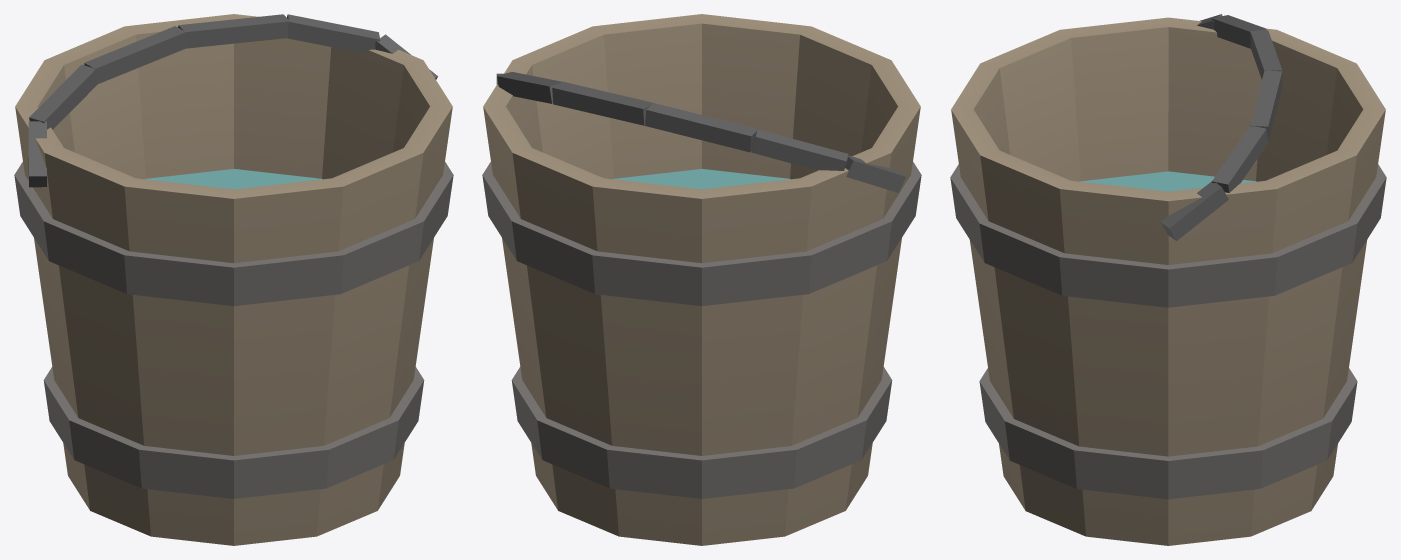
File: SM_BM_BP_Bucket.glb
The picture shows the model from 3 angles, left to right: view 1: azimuth 30°, elevation 25°; view 2: azimuth 150°, elevation 25°; view 3: azimuth 270°, elevation 25°; orthographic projection.
Parts seen in each view (by area): view 1: SM_BM_BP_Bucket; view 2: SM_BM_BP_Bucket; view 3: SM_BM_BP_Bucket.
Part boxes in pixels (box(x1,y1,x2,y2)): SM_BM_BP_Bucket: box(14, 14, 453, 545); SM_BM_BP_Bucket: box(482, 14, 921, 545); SM_BM_BP_Bucket: box(950, 14, 1386, 545).
Size of the model in its own units: 0.3132 by 0.2985 by 0.291.
